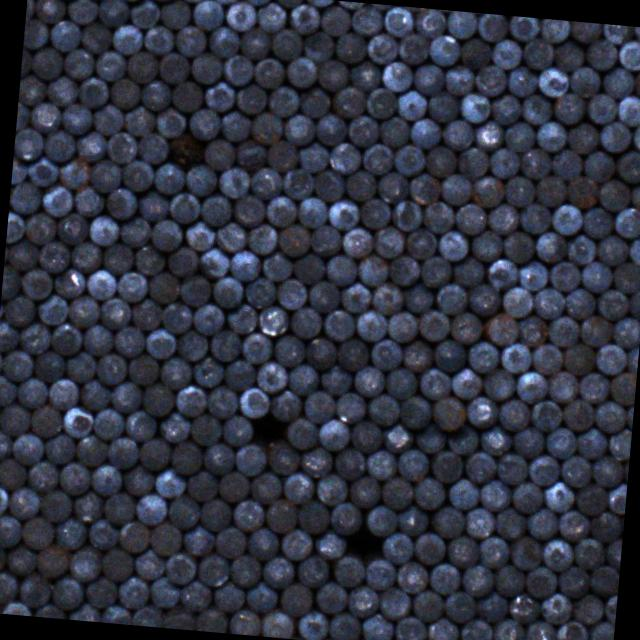tool: (428, 502, 466, 540), (499, 228, 536, 266), (134, 184, 170, 223), (15, 570, 52, 607), (354, 250, 390, 288), (368, 280, 405, 316), (311, 580, 349, 615), (55, 155, 93, 190), (482, 311, 520, 346), (244, 524, 280, 560), (330, 552, 366, 588), (491, 562, 527, 598), (16, 318, 52, 354), (262, 497, 298, 533), (496, 395, 532, 431), (590, 398, 626, 434), (3, 236, 39, 272), (450, 252, 486, 288), (148, 216, 184, 252), (454, 144, 490, 180), (280, 110, 316, 146), (266, 82, 302, 118), (28, 44, 64, 80), (156, 50, 192, 86), (346, 56, 382, 92), (444, 533, 481, 568), (101, 489, 138, 524), (124, 351, 161, 386), (198, 440, 235, 475), (174, 327, 211, 362), (131, 241, 168, 276), (549, 200, 584, 237), (278, 580, 312, 618), (296, 498, 330, 536), (430, 396, 468, 430), (224, 299, 258, 337), (176, 270, 210, 308), (78, 18, 112, 56), (50, 574, 85, 610), (82, 574, 118, 609), (228, 552, 264, 587), (180, 521, 216, 556), (508, 534, 543, 570), (25, 456, 60, 492), (10, 431, 46, 466), (48, 320, 84, 355), (166, 494, 201, 530), (247, 469, 283, 504), (297, 444, 333, 479), (462, 448, 497, 484), (154, 408, 190, 443), (219, 412, 254, 448), (351, 362, 386, 398), (481, 366, 516, 402), (270, 332, 306, 367), (302, 334, 338, 369), (558, 452, 593, 488), (23, 210, 58, 246), (321, 307, 357, 342), (113, 268, 149, 303), (243, 274, 278, 310), (197, 192, 232, 228), (262, 193, 298, 228), (311, 166, 346, 202), (376, 168, 411, 204), (233, 136, 269, 171), (562, 231, 598, 266), (471, 172, 506, 208), (548, 147, 584, 182), (364, 84, 399, 120), (172, 23, 208, 58), (300, 28, 336, 63), (332, 29, 368, 64), (550, 36, 585, 72), (409, 588, 446, 622), (410, 476, 447, 510), (332, 444, 366, 481), (158, 354, 192, 391), (188, 354, 225, 388), (289, 304, 323, 341), (402, 279, 436, 316), (328, 139, 362, 176), (486, 200, 520, 237), (329, 84, 366, 118), (115, 574, 150, 609), (67, 547, 102, 582), (195, 551, 230, 586), (427, 560, 462, 595), (380, 529, 415, 564), (445, 476, 480, 511), (187, 411, 222, 446), (397, 394, 432, 429), (34, 290, 69, 325), (66, 294, 101, 329), (307, 222, 342, 257), (102, 186, 137, 221), (247, 164, 282, 199), (596, 177, 631, 212), (314, 57, 349, 92), (206, 23, 241, 58), (379, 58, 414, 93), (457, 36, 492, 71), (245, 578, 279, 614), (164, 550, 198, 586), (20, 513, 54, 549), (278, 527, 314, 561), (311, 526, 347, 560), (7, 484, 41, 520), (40, 487, 74, 523), (88, 462, 124, 496), (74, 432, 108, 468), (106, 434, 140, 470), (76, 377, 112, 411), (198, 496, 234, 530), (327, 501, 363, 535), (120, 462, 156, 496), (314, 471, 348, 507), (346, 474, 382, 508), (167, 438, 201, 474), (478, 422, 514, 456), (140, 382, 176, 416), (301, 388, 337, 422), (238, 330, 274, 364), (574, 426, 610, 460), (38, 238, 72, 274), (8, 180, 42, 216), (98, 295, 132, 331), (190, 302, 226, 336), (256, 302, 290, 338), (209, 274, 245, 308), (290, 251, 326, 285), (418, 252, 452, 288), (276, 222, 312, 256), (404, 226, 440, 260), (40, 182, 74, 218), (294, 195, 330, 229), (358, 194, 392, 230), (453, 202, 489, 236), (25, 152, 59, 188), (40, 128, 76, 162), (200, 136, 236, 170), (359, 142, 395, 176), (498, 284, 534, 318), (592, 286, 628, 320), (468, 228, 504, 262), (89, 101, 123, 137), (344, 114, 380, 148), (221, 52, 255, 88), (236, 24, 270, 60), (366, 30, 400, 66), (408, 116, 442, 152), (599, 66, 635, 100), (518, 35, 554, 69), (583, 36, 619, 70), (250, 108, 283, 145), (34, 544, 68, 579), (100, 546, 134, 581), (117, 519, 152, 553), (377, 586, 412, 620), (294, 554, 329, 588), (362, 557, 397, 591), (524, 564, 558, 599), (556, 563, 590, 598), (412, 532, 447, 566), (71, 488, 106, 522), (60, 404, 94, 439), (112, 323, 146, 358), (396, 447, 431, 481), (429, 448, 464, 482), (527, 452, 561, 487), (348, 419, 382, 454), (412, 419, 446, 454), (511, 423, 546, 457), (267, 388, 302, 422), (463, 395, 498, 429), (448, 365, 482, 400), (432, 338, 467, 372), (554, 508, 589, 542), (574, 480, 608, 515), (591, 453, 625, 488), (546, 369, 580, 404), (1, 293, 36, 327), (416, 307, 450, 342), (145, 269, 180, 303), (306, 279, 341, 313), (434, 282, 469, 316), (68, 239, 102, 274), (338, 224, 373, 258), (371, 224, 406, 258), (231, 192, 266, 226), (389, 197, 424, 231), (421, 199, 455, 234), (279, 166, 314, 200), (407, 170, 442, 204), (580, 204, 614, 239), (517, 146, 552, 180), (581, 149, 615, 184), (124, 49, 158, 84), (268, 27, 302, 62), (534, 119, 568, 154), (566, 120, 600, 155), (474, 63, 508, 98), (177, 578, 213, 611), (149, 520, 182, 556), (541, 536, 574, 572), (510, 480, 546, 513), (367, 391, 400, 427), (465, 340, 501, 373), (50, 266, 86, 299), (338, 278, 371, 314), (219, 107, 252, 143), (46, 18, 82, 51), (293, 608, 330, 640), (506, 591, 543, 623), (4, 542, 38, 576), (346, 584, 380, 618), (443, 590, 477, 624), (475, 588, 509, 622), (262, 556, 296, 590), (394, 560, 428, 594), (58, 460, 92, 494), (32, 348, 66, 382), (63, 348, 97, 382), (231, 498, 265, 532), (282, 470, 316, 504), (494, 450, 528, 484), (446, 421, 480, 455), (204, 384, 238, 418), (208, 328, 242, 362), (544, 426, 578, 460), (560, 397, 594, 431), (576, 370, 610, 404), (448, 310, 482, 344), (228, 247, 262, 281), (324, 252, 358, 286), (86, 212, 120, 246), (436, 228, 470, 262), (70, 183, 104, 217), (216, 164, 250, 198), (345, 168, 379, 202), (133, 130, 167, 164), (265, 138, 299, 172), (423, 143, 457, 177), (579, 314, 613, 348), (466, 282, 500, 316), (530, 285, 564, 319), (485, 256, 519, 290), (516, 257, 550, 291), (518, 201, 552, 235), (564, 175, 598, 209), (314, 111, 348, 145), (76, 74, 110, 108), (202, 79, 236, 113), (284, 55, 318, 89), (599, 120, 633, 154), (488, 91, 522, 125), (411, 62, 445, 96), (212, 579, 247, 612), (110, 379, 143, 414), (215, 470, 250, 503), (379, 476, 414, 509), (315, 417, 350, 450), (381, 421, 416, 454), (236, 386, 271, 419), (336, 336, 369, 371), (186, 107, 221, 140), (316, 3, 351, 36), (552, 92, 587, 125), (426, 31, 459, 66), (252, 360, 288, 392), (400, 338, 436, 370), (562, 340, 594, 376), (56, 210, 88, 246), (356, 306, 388, 342), (164, 244, 200, 276), (388, 252, 420, 288), (74, 127, 106, 163), (147, 574, 180, 608), (53, 516, 86, 550), (85, 517, 118, 551), (570, 591, 604, 624), (460, 563, 494, 596), (29, 403, 62, 437), (90, 406, 124, 439), (1, 348, 34, 382), (135, 492, 168, 526), (492, 506, 526, 539), (184, 469, 218, 502), (478, 478, 512, 511), (233, 443, 267, 476), (364, 447, 397, 481), (284, 417, 318, 450), (524, 508, 557, 542), (19, 266, 52, 300), (160, 300, 193, 334), (259, 249, 293, 282), (118, 215, 152, 248), (182, 163, 216, 196), (440, 172, 473, 206), (393, 142, 426, 176), (532, 174, 566, 207), (28, 100, 61, 134), (121, 104, 155, 137), (138, 78, 172, 111), (61, 46, 94, 80), (92, 48, 126, 81), (188, 51, 222, 84), (502, 119, 536, 152), (585, 92, 619, 125), (383, 366, 418, 398), (514, 370, 549, 402), (144, 326, 176, 361), (370, 336, 402, 371), (530, 342, 565, 374), (276, 275, 308, 310), (88, 158, 120, 193), (119, 158, 154, 190), (514, 314, 549, 346), (233, 82, 268, 114), (441, 118, 476, 150), (326, 610, 363, 640), (16, 376, 49, 409), (94, 352, 127, 385), (499, 340, 532, 373), (151, 160, 184, 193), (153, 105, 186, 138), (350, 3, 383, 36), (381, 4, 414, 37), (426, 90, 459, 123), (132, 548, 166, 580), (214, 524, 246, 558), (588, 563, 620, 597), (46, 378, 80, 410), (364, 504, 396, 538), (395, 504, 429, 536), (138, 436, 170, 470), (333, 390, 367, 422), (222, 356, 256, 388), (286, 362, 318, 396), (318, 362, 352, 394), (418, 367, 452, 399), (588, 510, 622, 542), (593, 342, 627, 374), (130, 296, 162, 330), (386, 309, 418, 343), (245, 220, 277, 254), (165, 192, 199, 224), (105, 130, 137, 164), (296, 138, 328, 172), (547, 315, 581, 347), (562, 286, 596, 318), (580, 260, 614, 292), (534, 230, 568, 262), (594, 233, 628, 265), (58, 102, 92, 134), (44, 74, 78, 106), (170, 78, 202, 112), (298, 84, 332, 116), (110, 21, 142, 55), (378, 115, 410, 149), (520, 92, 554, 124), (443, 62, 475, 96), (568, 64, 600, 98), (474, 12, 508, 44), (189, 0, 224, 31), (411, 7, 446, 38), (258, 610, 295, 639), (572, 537, 605, 569), (82, 323, 115, 355), (530, 399, 562, 432), (84, 267, 116, 300), (182, 218, 215, 250), (327, 198, 360, 230), (548, 259, 581, 291), (503, 173, 535, 206), (108, 76, 140, 109), (141, 24, 174, 56), (223, 0, 256, 32), (288, 1, 320, 34), (458, 91, 490, 124), (536, 66, 569, 98), (396, 32, 429, 64), (0, 401, 31, 435), (266, 442, 300, 473), (13, 126, 44, 160), (609, 259, 640, 293), (191, 606, 229, 633), (541, 591, 573, 623), (44, 432, 76, 464), (124, 409, 156, 441), (462, 506, 494, 538), (174, 384, 206, 416), (543, 480, 575, 512), (101, 241, 133, 273), (196, 246, 228, 278), (214, 220, 246, 252), (253, 56, 285, 88), (506, 64, 538, 96), (490, 36, 522, 68), (152, 467, 185, 498), (478, 534, 508, 568), (610, 314, 640, 348), (126, 0, 160, 30), (398, 88, 428, 122), (488, 146, 519, 178), (255, 0, 287, 31), (361, 611, 395, 640), (608, 370, 637, 404), (0, 455, 28, 490), (18, 71, 46, 106), (474, 118, 504, 150), (506, 15, 540, 43), (392, 614, 428, 640), (157, 0, 190, 28), (446, 10, 477, 39), (228, 608, 260, 636), (97, 0, 130, 27), (606, 426, 632, 460), (614, 149, 640, 183), (63, 0, 98, 25), (615, 93, 640, 128), (613, 206, 640, 238), (160, 605, 194, 630), (425, 616, 460, 640), (458, 617, 494, 640), (522, 617, 558, 640), (617, 36, 640, 71), (598, 24, 634, 46), (539, 18, 569, 44), (23, 17, 48, 48), (32, 0, 67, 22), (132, 604, 164, 628), (1, 264, 22, 300), (99, 603, 133, 625), (492, 618, 526, 640), (555, 618, 589, 640), (0, 513, 21, 548), (568, 20, 601, 42), (68, 600, 100, 622), (604, 483, 626, 514), (10, 153, 30, 185), (0, 568, 18, 603), (0, 374, 18, 407), (6, 212, 25, 242), (0, 599, 33, 616), (587, 620, 615, 640), (0, 320, 18, 351), (34, 602, 66, 619), (606, 536, 622, 568), (15, 101, 31, 133), (626, 232, 640, 266), (625, 288, 640, 319), (0, 428, 13, 461), (629, 177, 640, 211), (630, 120, 640, 152), (0, 483, 9, 516), (632, 66, 640, 100), (0, 541, 6, 575), (633, 26, 640, 45), (207, 0, 240, 4)
tool_b: (166, 131, 204, 169)
void: (344, 524, 384, 562), (250, 414, 286, 449)
